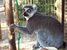cat: (8, 5, 65, 49)
